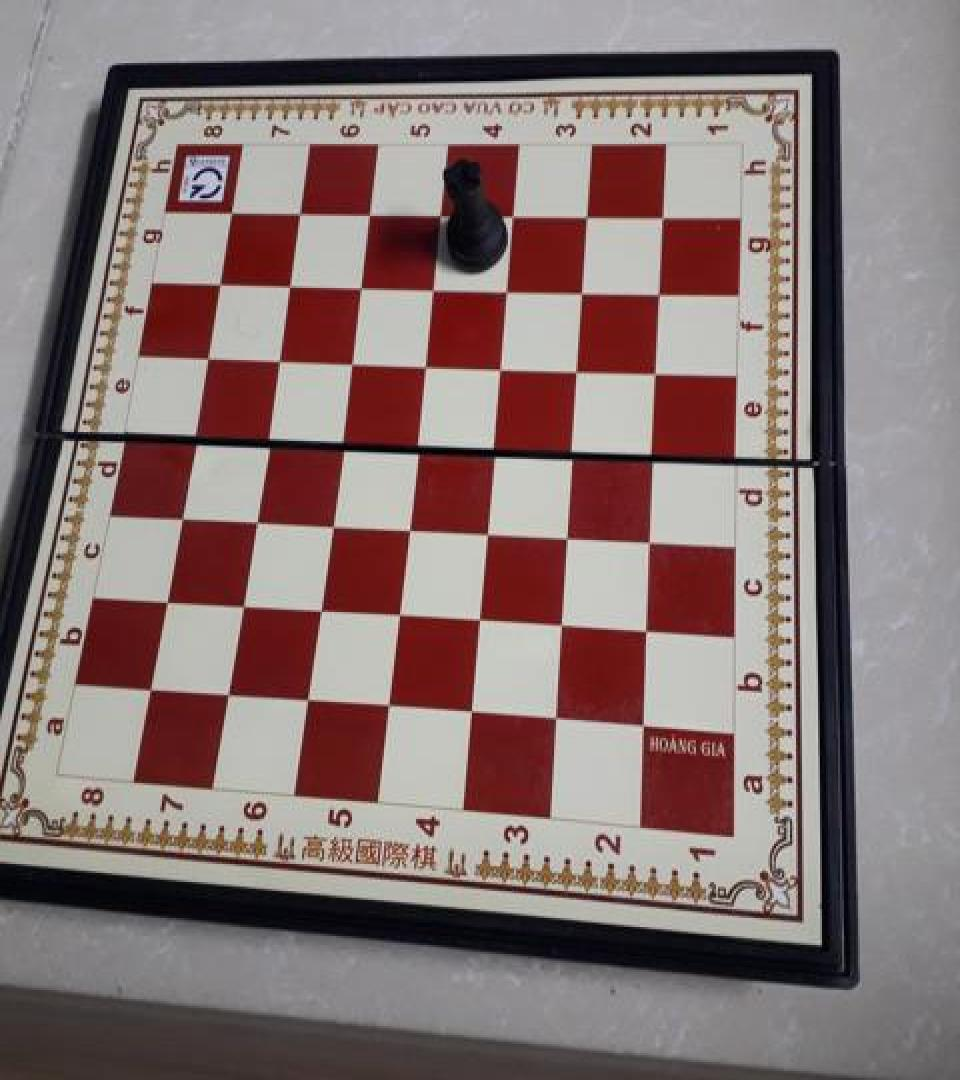xcorner: (212, 678, 240, 710), (292, 684, 320, 716), (456, 696, 484, 728), (541, 703, 569, 735), (226, 588, 254, 620), (383, 598, 411, 630), (464, 603, 492, 635), (632, 613, 660, 645), (164, 499, 192, 531), (314, 506, 342, 538), (471, 514, 499, 546), (636, 522, 664, 554), (178, 418, 206, 450), (325, 424, 353, 456), (401, 426, 429, 458), (558, 432, 586, 464), (639, 435, 667, 467), (262, 343, 290, 375), (335, 345, 363, 377), (409, 346, 437, 378), (563, 351, 591, 383), (642, 352, 670, 384), (344, 270, 372, 302), (417, 270, 445, 302), (492, 271, 520, 303), (567, 272, 595, 304), (645, 273, 673, 305), (425, 198, 453, 230), (498, 198, 526, 230), (572, 198, 600, 230), (648, 198, 676, 230), (135, 673, 163, 704), (373, 691, 401, 722), (629, 710, 657, 741), (150, 584, 178, 615), (303, 593, 331, 624), (547, 609, 575, 640), (238, 503, 266, 534), (392, 511, 420, 542), (553, 519, 581, 550), (251, 421, 279, 452), (478, 430, 506, 461), (191, 341, 219, 372), (485, 349, 513, 380), (204, 268, 232, 299), (273, 269, 301, 300), (216, 197, 244, 228), (284, 197, 312, 228), (354, 197, 382, 228)
